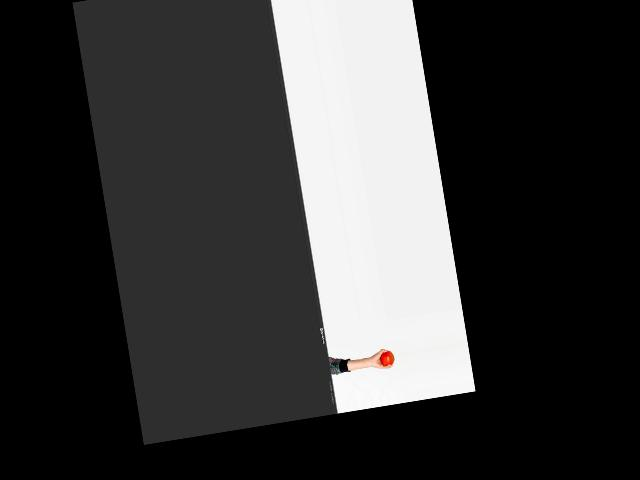tomato: (379, 350, 395, 367)
